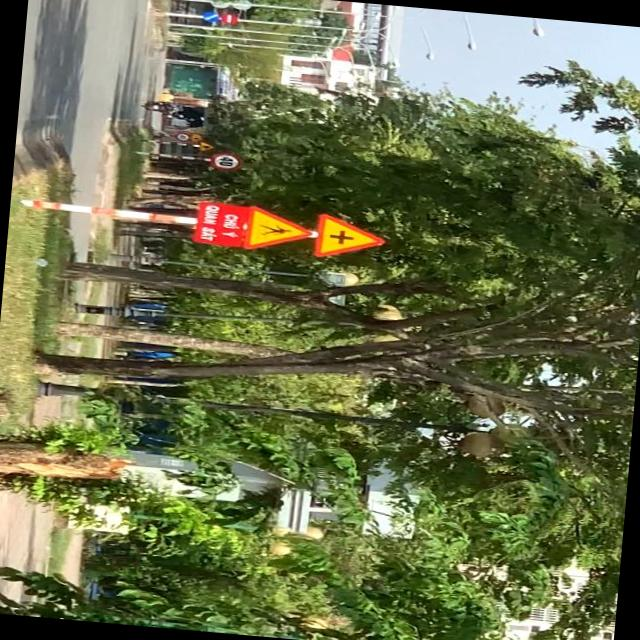P-102: (218, 12, 238, 26)
P-127: (208, 153, 242, 171)
R-302a: (202, 12, 218, 24)
W-205a: (309, 209, 391, 264)
W-224: (242, 203, 316, 256)
